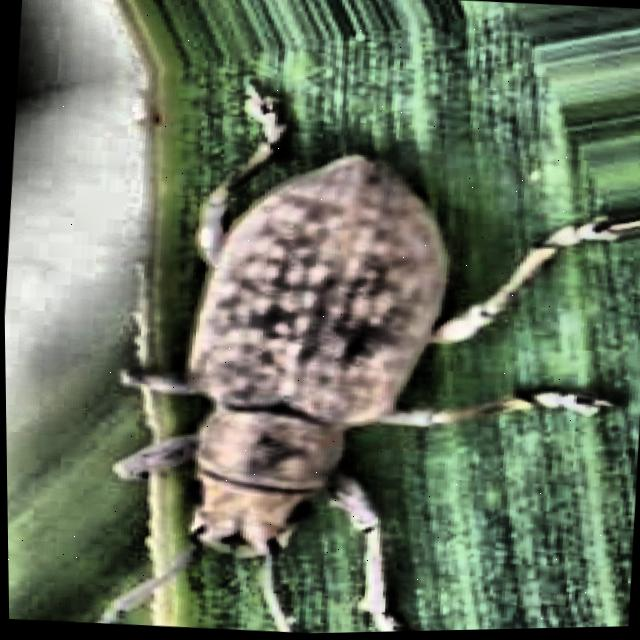Stink bug: (64, 34, 545, 639)
